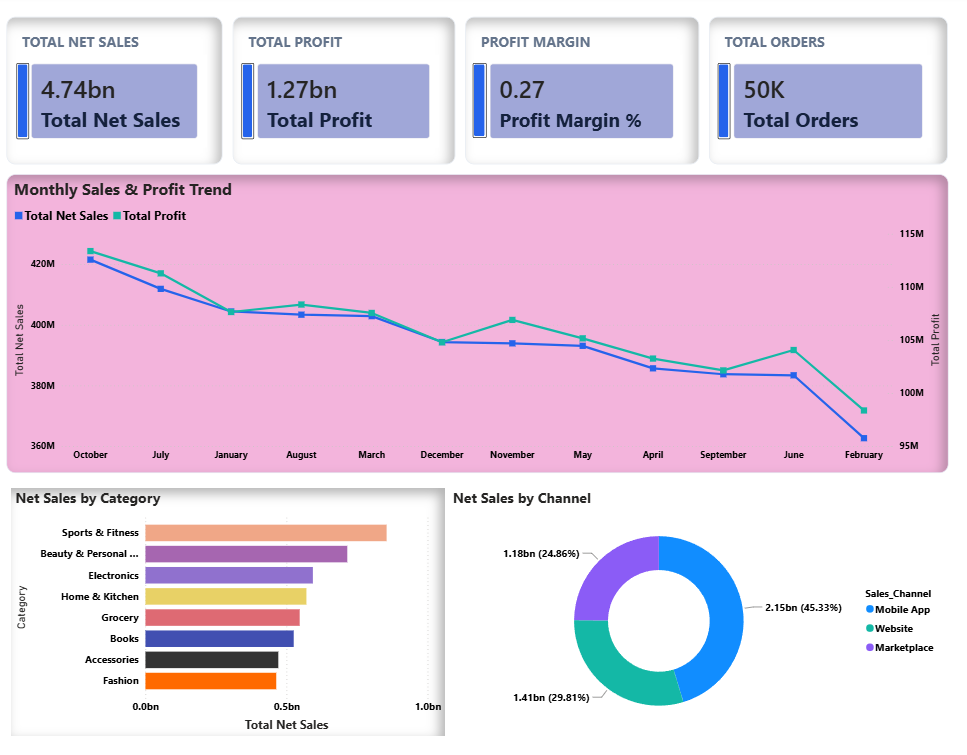

The page's visual inventory and layout, read from the dashboard file:
{"tool":"powerbi","page":{"name":"NOVAMART | EXECUTIVE OVERVIEW","canvas":[1280,1000],"ordinal":0},"visuals":[{"type":"cardVisual","title":"TOTAL NET SALES","fields":{"Data":["order_items.Total Net Sales"]},"box":[10,11.7,288.3,196.7],"z":0},{"type":"shape","box":[22.9,72.9,17.1,101.4],"z":1000},{"type":"cardVisual","title":"TOTAL PROFIT","fields":{"Data":["order_items.Total Profit"]},"box":[311.7,11.7,296.7,196.7],"z":2000},{"type":"cardVisual","title":"PROFIT MARGIN","fields":{"Data":["order_items.Profit Margin %"]},"box":[621.7,11.7,311.7,196.7],"z":3000},{"type":"cardVisual","title":"TOTAL ORDERS","fields":{"Data":["order_items.Total Orders"]},"box":[946.7,11.7,318.3,196.7],"z":4000},{"type":"shape","box":[323.3,73.3,16.7,101.7],"z":5000},{"type":"shape","box":[631.7,73.3,18.3,100],"z":6000},{"type":"shape","box":[958.3,73.3,16.7,101.7],"z":7000},{"type":"lineChart","title":"Monthly Sales & Profit Trend","fields":{"Y":["order_items.Total Net Sales"],"Y2":["order_items.Total Profit"],"Category":["orders.Order_DateTime"]},"box":[10,222,1256,398],"z":8000},{"type":"clusteredBarChart","title":"Net Sales by Category","fields":{"Category":["products.Category"],"Y":["order_items.Total Net Sales"]},"box":[16,640,578,330],"z":9000},{"type":"donutChart","title":"Net Sales by Channel","fields":{"Category":["orders.Sales_Channel"],"Y":["order_items.Total Net Sales"]},"box":[600,640,670,330],"z":10000}]}

Visuals, with their boxes in screenshot pixels (x1, y1, x2, y2), scaled from the page's 1280x1000 canvas onto the 967x755 screenshot:
"TOTAL NET SALES" cardVisual: [8, 9, 225, 157]
shape: [17, 55, 30, 132]
"TOTAL PROFIT" cardVisual: [235, 9, 460, 157]
"PROFIT MARGIN" cardVisual: [470, 9, 705, 157]
"TOTAL ORDERS" cardVisual: [715, 9, 956, 157]
shape: [244, 55, 257, 132]
shape: [477, 55, 491, 131]
shape: [724, 55, 737, 132]
"Monthly Sales & Profit Trend" lineChart: [8, 168, 956, 468]
"Net Sales by Category" clusteredBarChart: [12, 483, 449, 732]
"Net Sales by Channel" donutChart: [453, 483, 959, 732]
